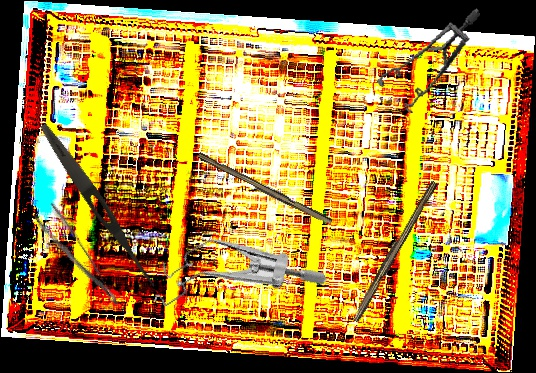Dressing Forceps: (35, 120, 163, 291), (32, 200, 122, 319)
Scalpel Handle: (349, 178, 439, 324), (195, 151, 334, 228)
Speculum: (139, 195, 329, 360), (366, 8, 497, 119)
